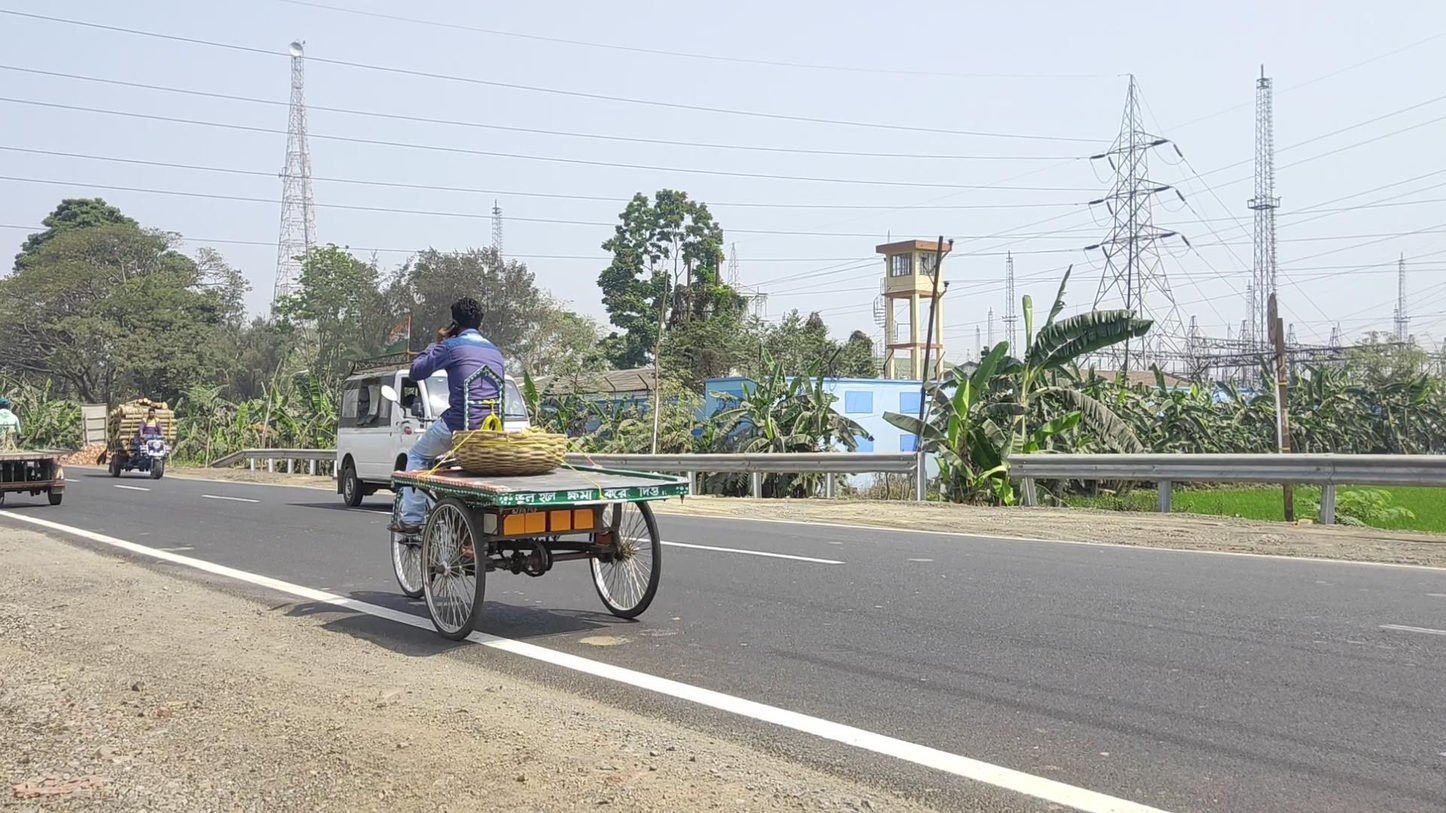van: (336, 369, 532, 509)
